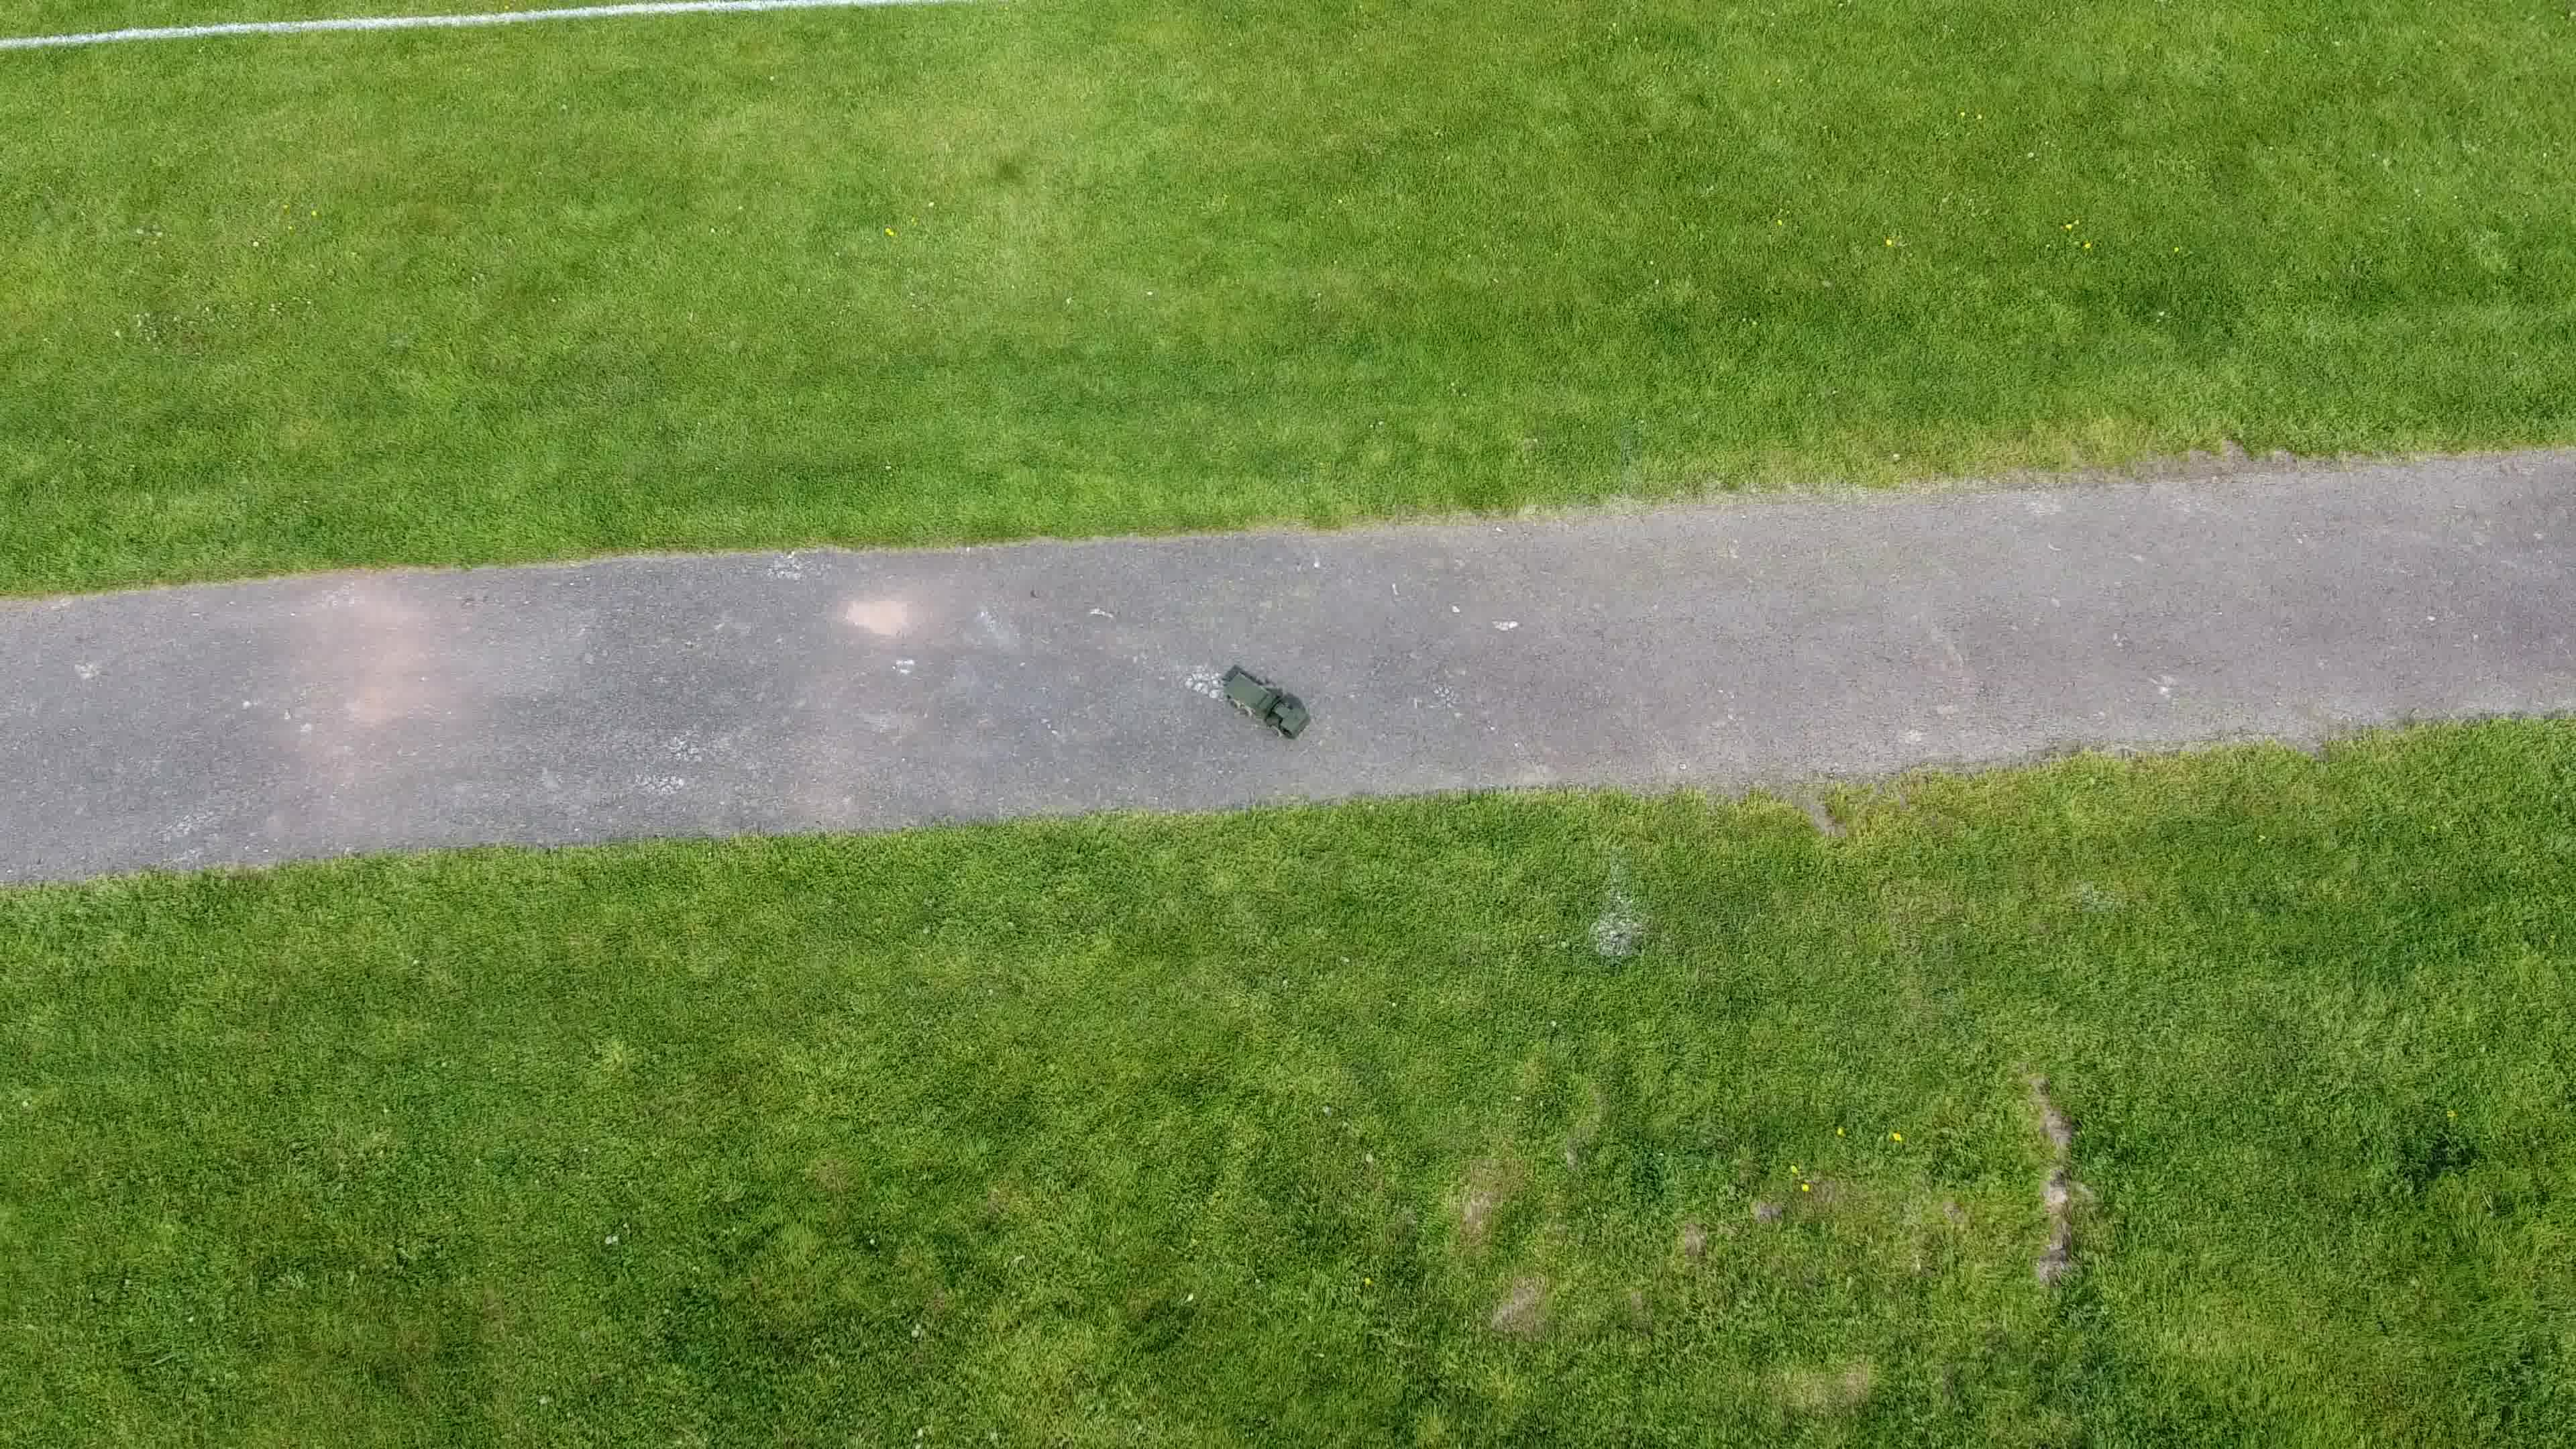transporter9: (1215, 667, 1313, 743)
